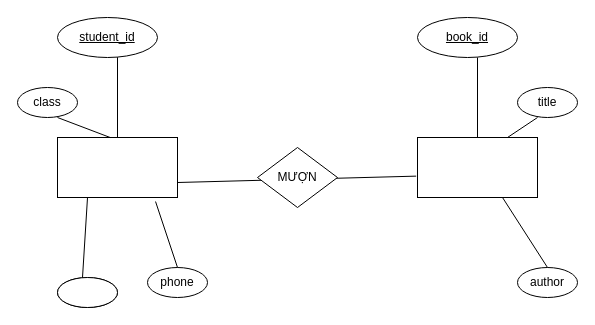
This 595x325 diagram has some shape labels left out. The shapes that lost their labels are listed below. From the top down, each one's box as (x1, y1, x2, y2) in pixels, then its label:
(56, 136, 178, 198): STUDENTS
(416, 136, 538, 198): BOOKS
(56, 276, 118, 308): fullname
